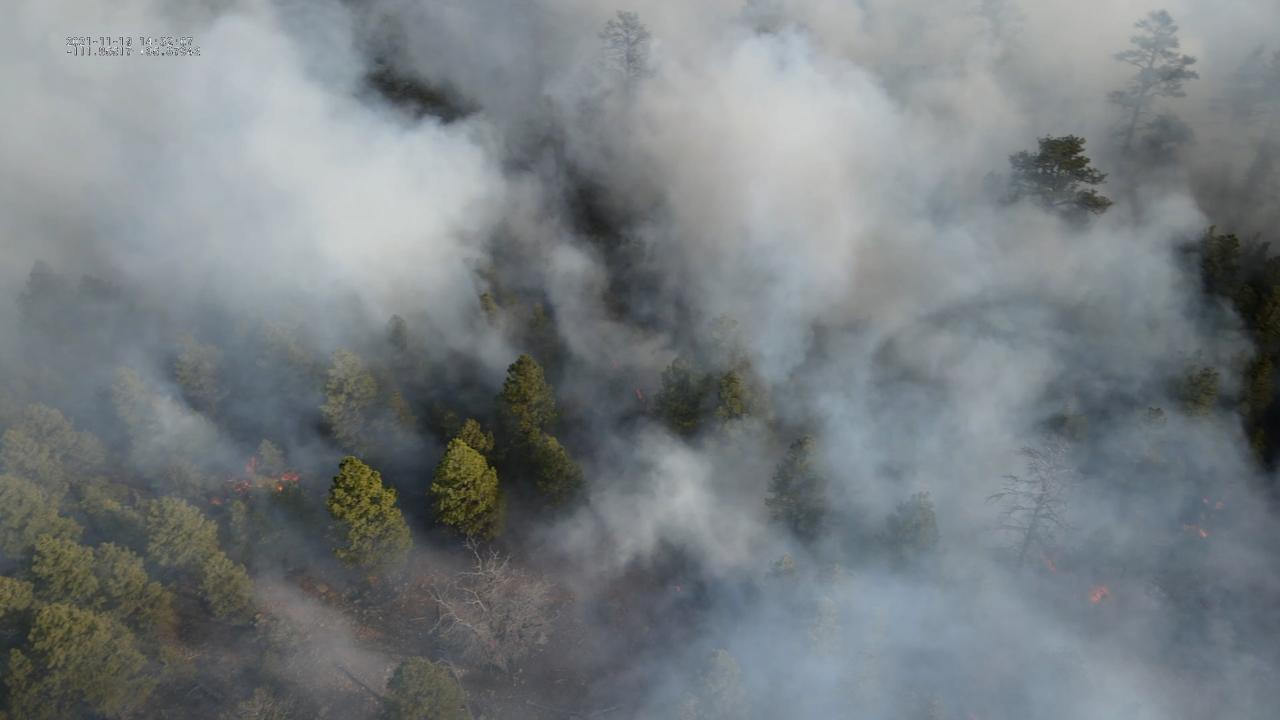fire: (207, 455, 300, 505), (1088, 584, 1111, 606), (1046, 559, 1057, 576), (635, 387, 645, 401), (1199, 528, 1208, 539), (611, 359, 620, 370), (1202, 496, 1210, 505)
smoke: (0, 0, 1280, 720)
